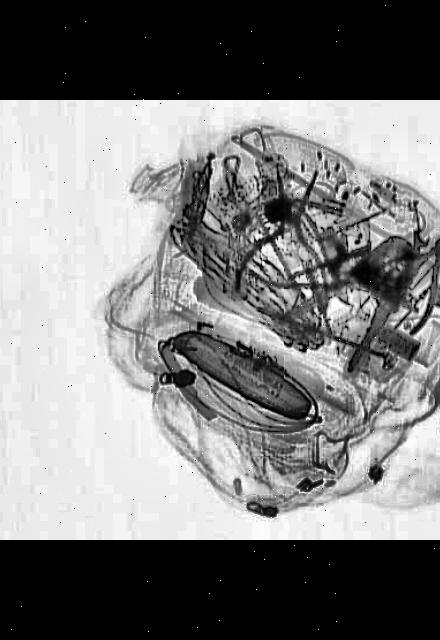Pliers: (268, 222, 440, 373), (231, 162, 342, 302), (333, 213, 440, 338)
Wrench: (383, 230, 429, 274)
